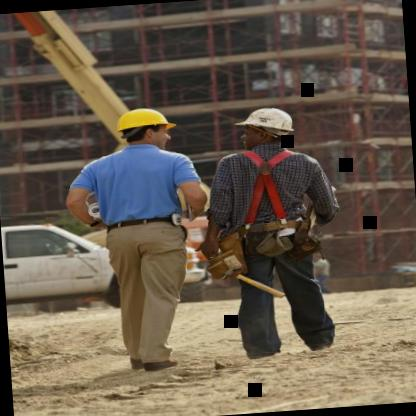helmet: (230, 98, 309, 151), (109, 102, 182, 152)
